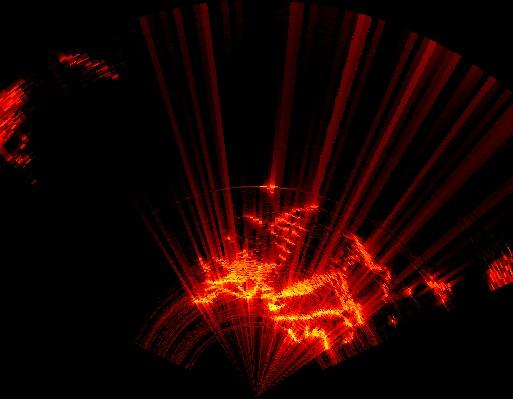shipwreck: (194, 235, 390, 350), (278, 214, 305, 261), (428, 276, 451, 303)
